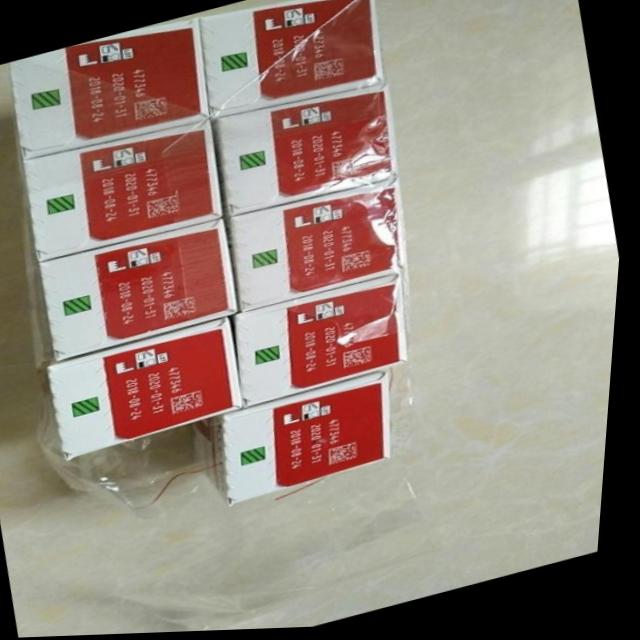box: (24, 121, 226, 263), (41, 219, 242, 361), (10, 19, 212, 160), (53, 318, 249, 462), (198, 370, 397, 508), (213, 86, 401, 219), (231, 276, 414, 410), (227, 181, 410, 313), (200, 0, 385, 120)
